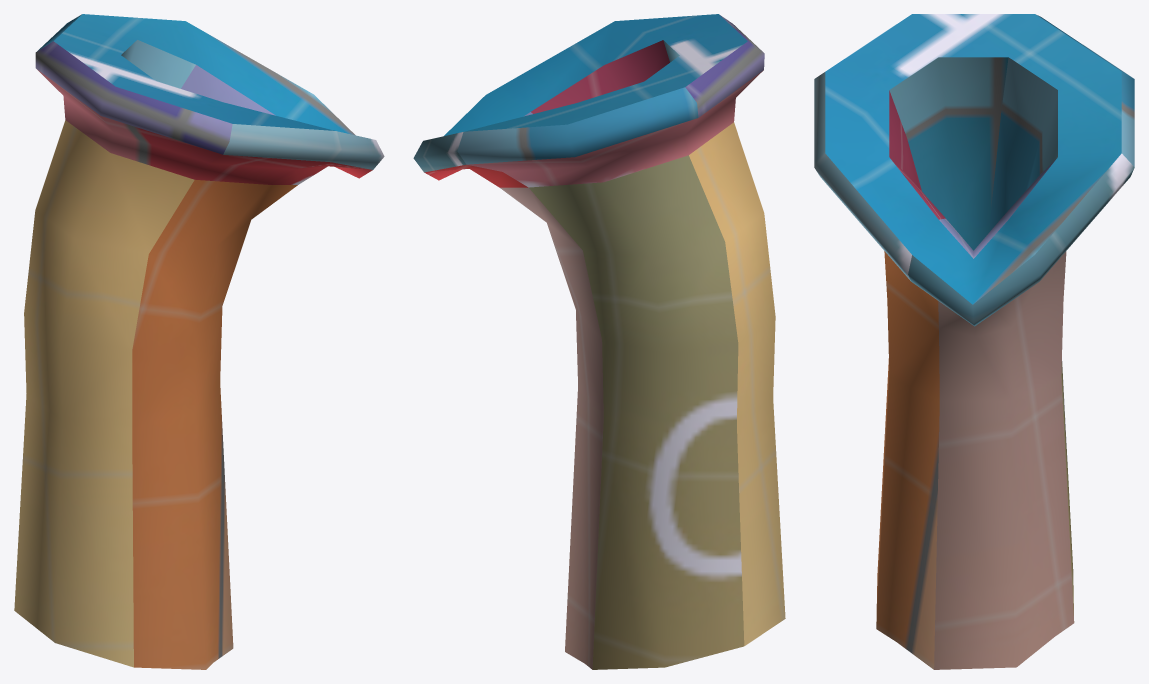
Rendered from LongVase_SHAT_cell_005.fbx.
The picture shows the model from 3 angles, left to right: view 1: azimuth 30°, elevation 25°; view 2: azimuth 150°, elevation 25°; view 3: azimuth 270°, elevation 25°; orthographic projection.
Visible parts, largest first — view 1: LongVase_SHAT_cell_005; view 2: LongVase_SHAT_cell_005; view 3: LongVase_SHAT_cell_005.
Boxes of the visible parts, left/top/right/bottom form: LongVase_SHAT_cell_005: left=14, top=14, right=384, bottom=669; LongVase_SHAT_cell_005: left=413, top=14, right=785, bottom=669; LongVase_SHAT_cell_005: left=814, top=14, right=1134, bottom=669.
Bounding box in the file's own units: 0.2952 × 0.5031 × 0.2461.
2 materials, 1 textured.
